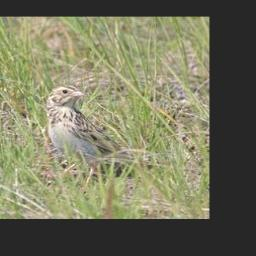Sparrow: (45, 82, 157, 192)
